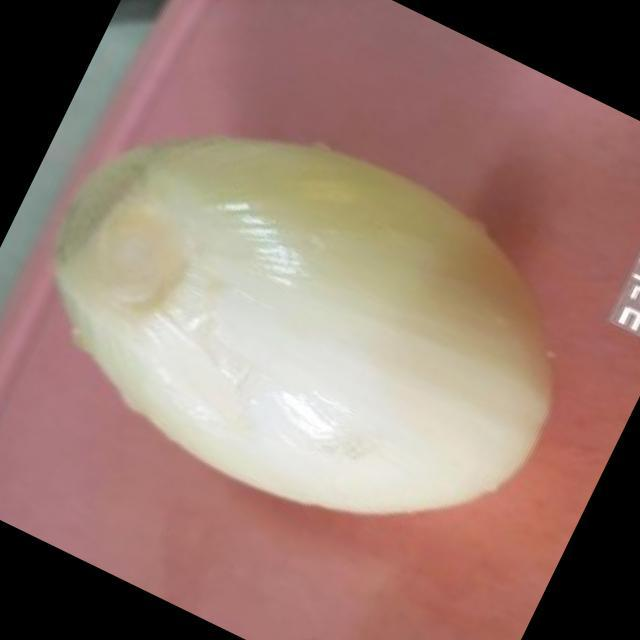Onion: (55, 138, 554, 520)
